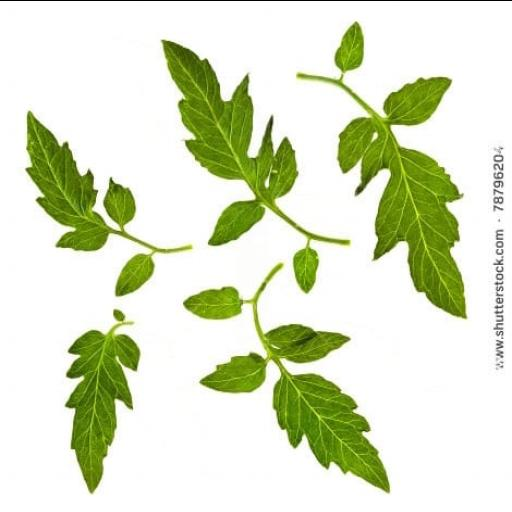Healthy: (160, 37, 300, 195), (353, 136, 468, 318), (270, 372, 388, 491), (63, 330, 141, 494), (23, 108, 109, 250), (382, 74, 452, 126), (197, 350, 267, 394), (206, 198, 264, 246), (279, 330, 350, 364), (336, 115, 376, 173), (182, 284, 242, 320), (114, 252, 154, 296), (333, 20, 365, 72), (103, 176, 137, 223), (291, 246, 319, 292)
